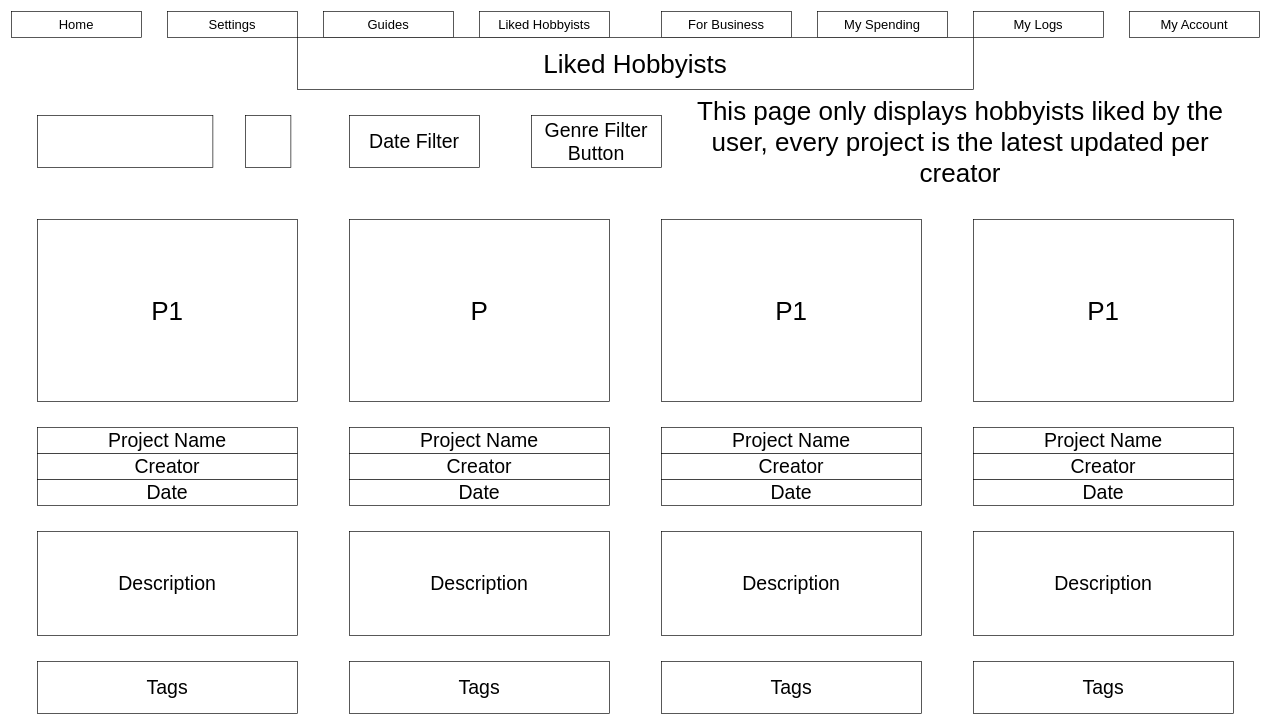
This 1271x725 diagram has some shape labels left out. Each missing label, with the centre of its shape:
"Page #" belongs at pixel 268 141.
"Search" belongs at pixel 125 141.
